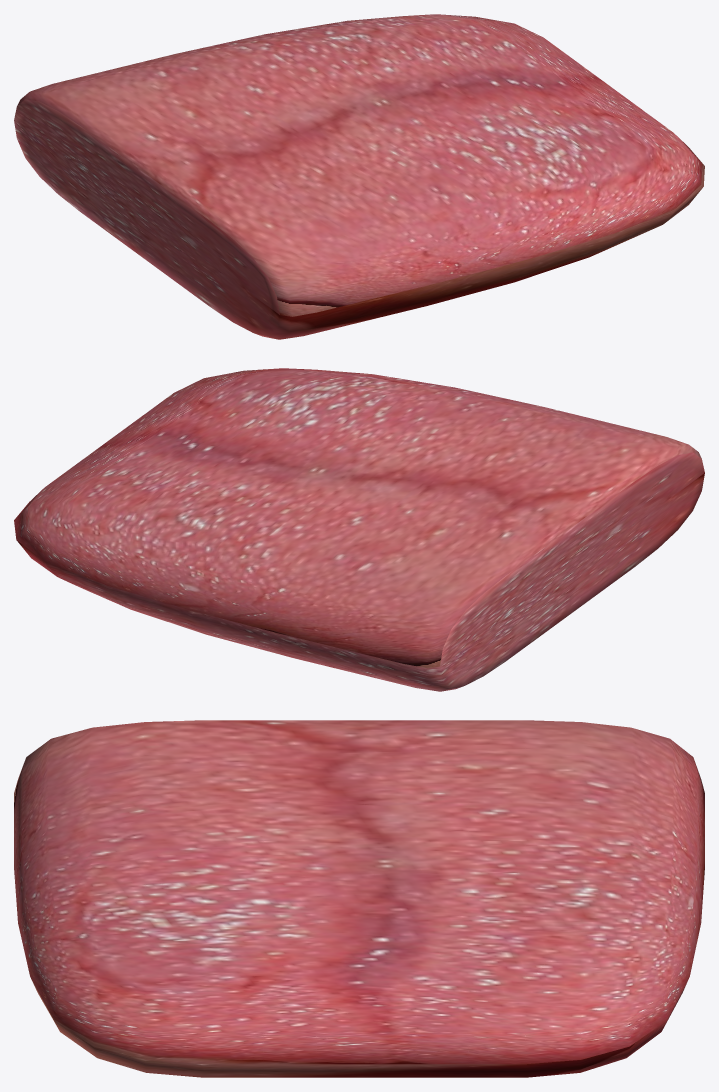
The model's file is low_poly_tongue.glb.
3 views of the same model, one above another, from view 1: azimuth 30°, elevation 25°; view 2: azimuth 150°, elevation 25°; view 3: azimuth 270°, elevation 25° (orthographic). The views are drawn at different scales.
Parts seen in each view (by area): view 1: Object_2; view 2: Object_2; view 3: Object_2.
Part boxes in pixels (x1,y1,x2,y2): Object_2: (14,14,704,339); Object_2: (14,368,704,691); Object_2: (14,720,704,1077).
Size of the model in its own units: 1.94 by 0.3803 by 1.95.
1 material, 1 textured.
